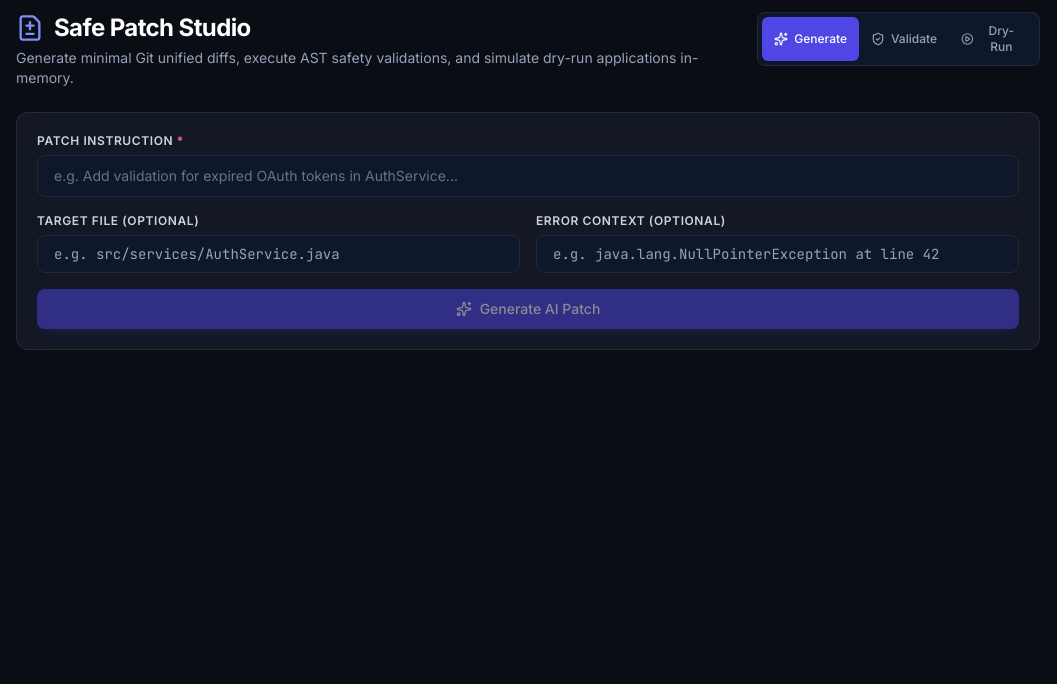
it: PatchStudioPage › generates patch and shows validation status banner
This screenshot has width=1057, height=684.
Check: the heading "Safe Patch Studio" is shown, box [16,13,251,42]
Replace the text in the field labelled "Patch Instruction *" with "Fix addition bug": [528, 176] box [37,155,1019,197]
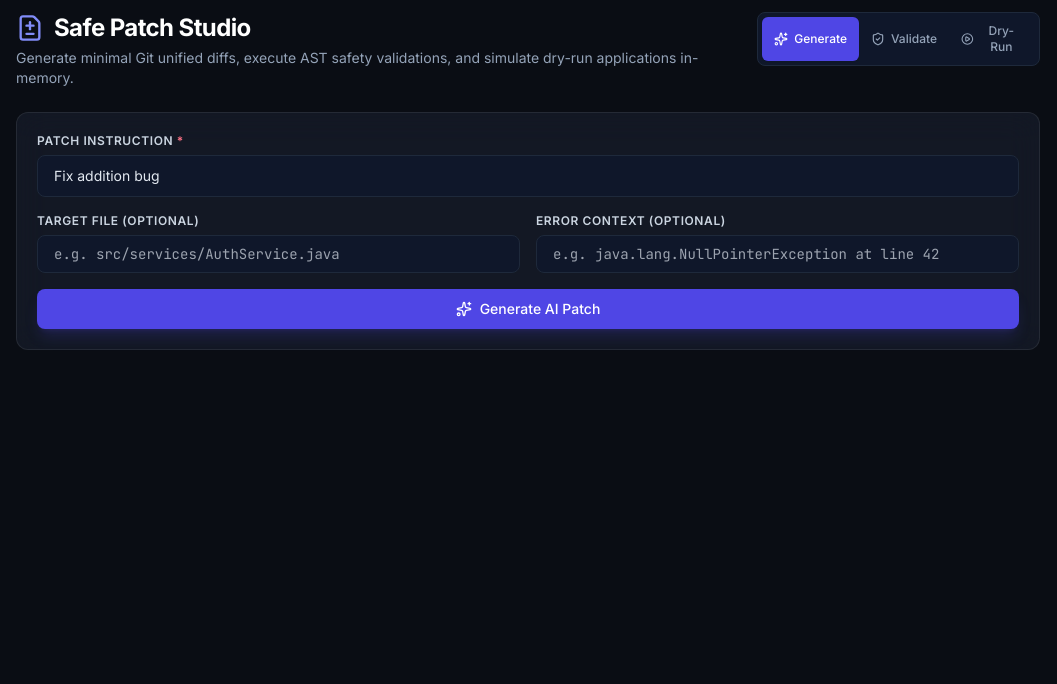
Click the button "Generate AI Patch": [528, 309] box [37,289,1019,329]
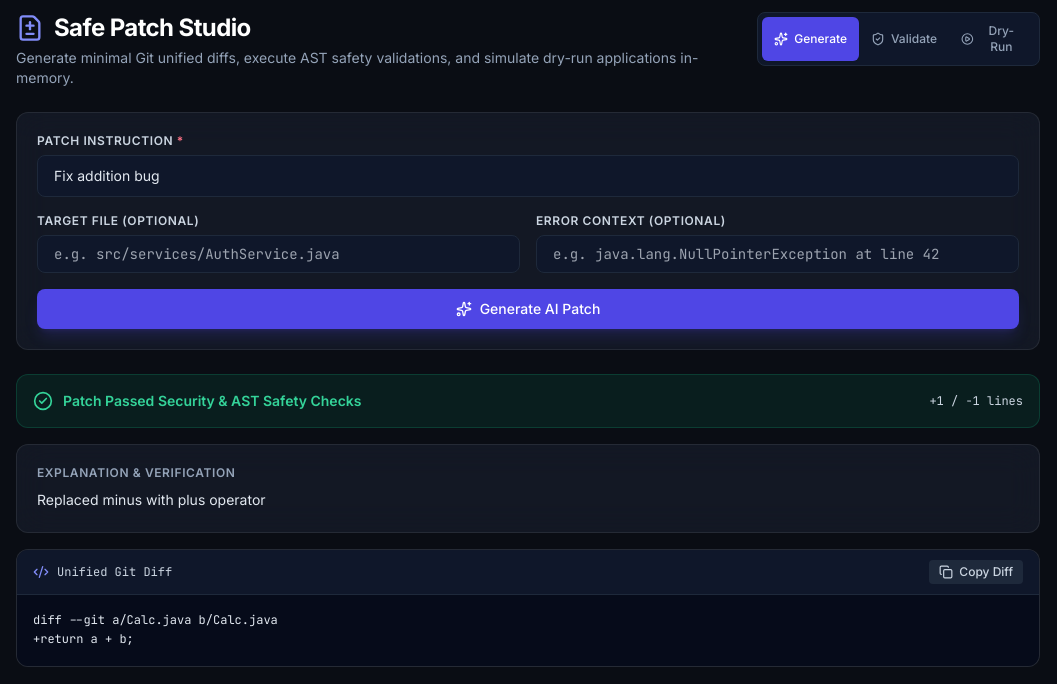
Check: the text "Patch Passed Security & AST Safety Checks" is shown, box [63,391,362,411]
Check: the text "Replaced minus with plus operator" is shown, box [37,491,266,508]
Check: the text "diff --git a/Calc.java b/Calc.java +return a + b;" is shown, box [17,595,1039,666]
